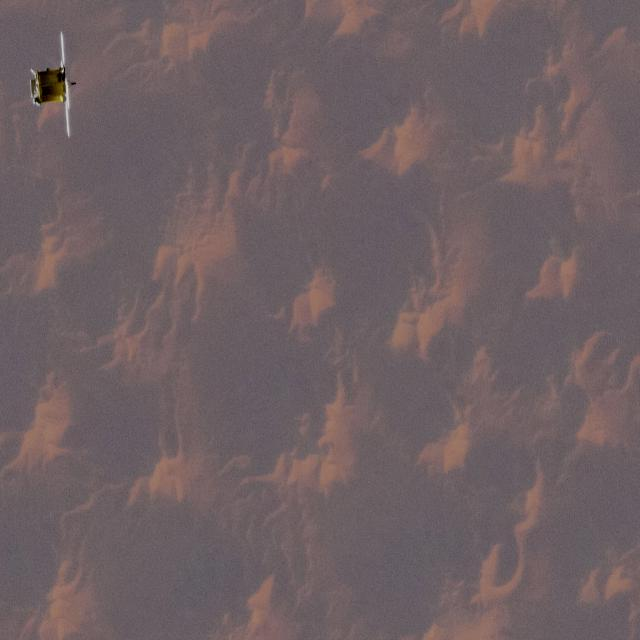satellite: (19, 16, 83, 144)
